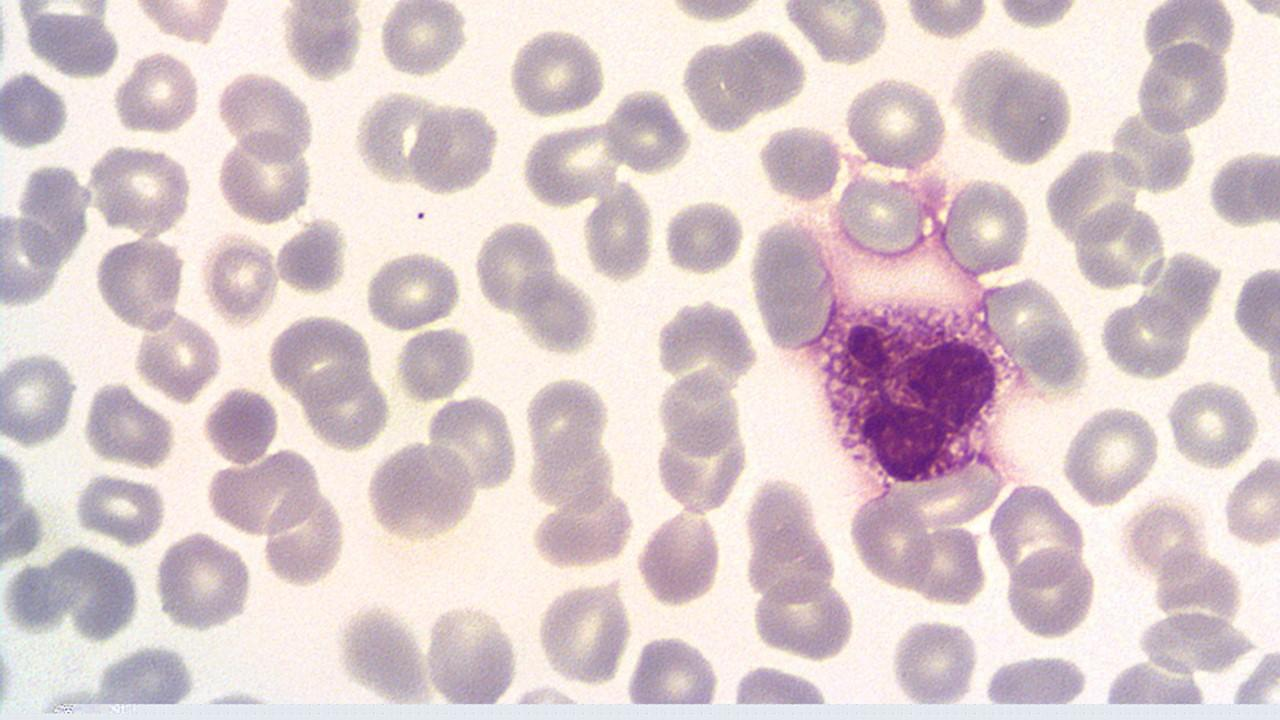RBC: (987, 482, 1087, 587), (1061, 404, 1161, 508), (206, 449, 320, 539), (537, 579, 632, 686), (422, 600, 518, 704), (844, 75, 949, 170), (154, 531, 251, 632), (505, 26, 606, 121), (216, 69, 316, 164), (91, 144, 192, 237), (1134, 41, 1232, 136), (214, 130, 314, 223), (636, 504, 722, 610), (987, 62, 1073, 168), (1071, 200, 1169, 293), (942, 176, 1032, 277), (94, 234, 186, 332), (407, 99, 498, 197), (260, 484, 346, 586), (1165, 378, 1257, 472), (134, 307, 222, 402), (474, 219, 558, 318), (83, 382, 177, 470), (364, 248, 463, 330), (889, 614, 979, 704), (113, 48, 203, 136), (1100, 295, 1192, 380), (0, 348, 78, 446), (584, 181, 655, 284), (758, 120, 844, 204), (722, 28, 804, 116), (73, 471, 170, 545), (378, 0, 466, 80), (204, 233, 278, 324), (662, 197, 745, 278), (0, 208, 65, 306), (395, 326, 474, 403), (204, 384, 278, 466), (1222, 452, 1280, 550), (0, 68, 68, 151), (1232, 262, 1280, 352), (903, 0, 989, 41)
WBC: (808, 280, 1020, 486)
